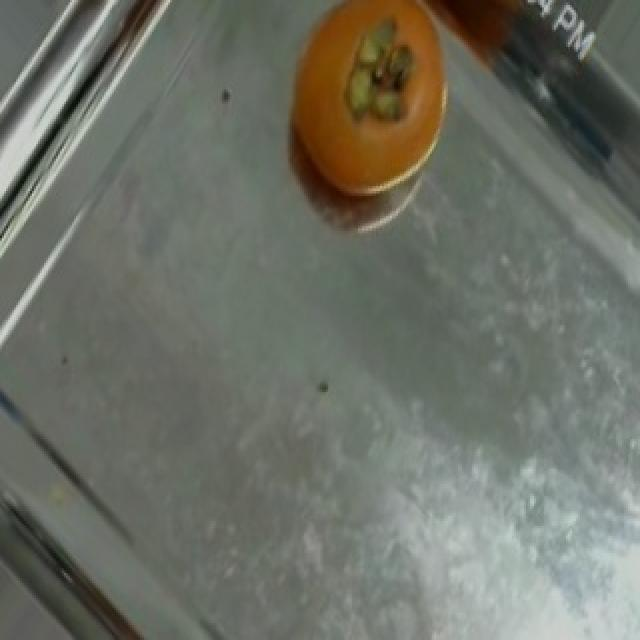Fruit: (262, 0, 478, 223)
